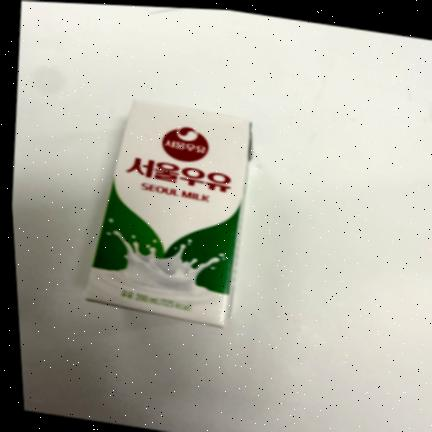milk_green: (84, 98, 252, 327)
